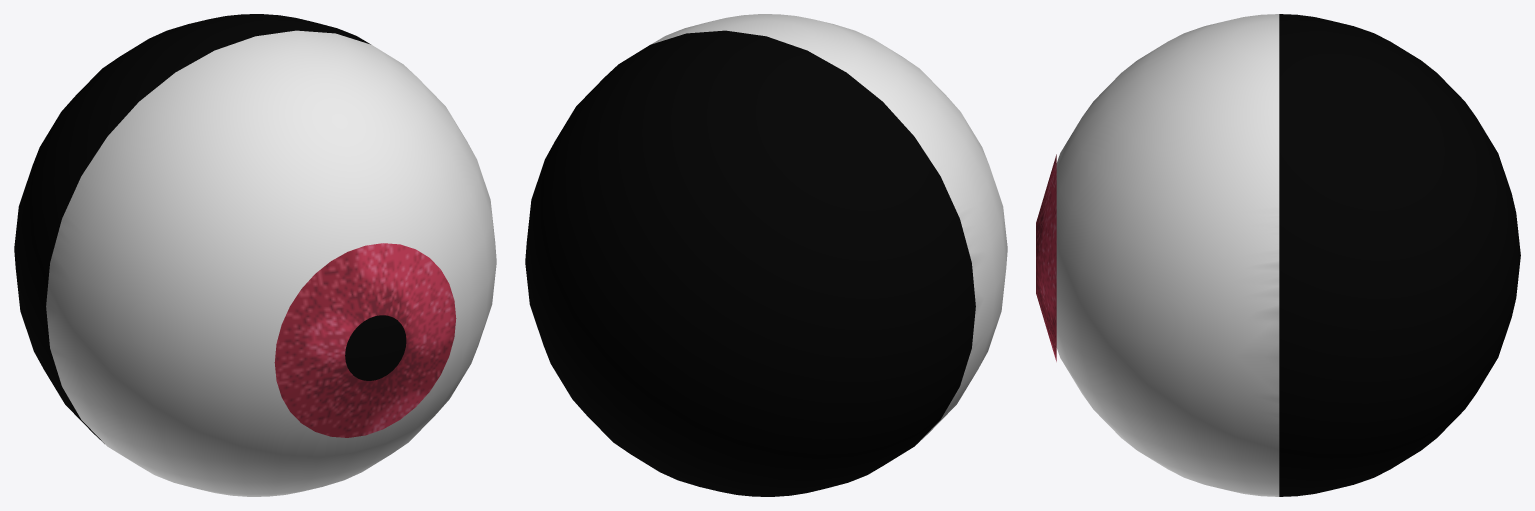
The model's file is eyev5.fbx.
The picture shows the model from 3 angles, left to right: view 1: azimuth 30°, elevation 25°; view 2: azimuth 150°, elevation 25°; view 3: azimuth 270°, elevation 25°; orthographic projection.
Parts seen in each view (by area): view 1: L Eye; view 2: L Eye; view 3: L Eye.
Boxes of the visible parts, bbox=[...] form: L Eye: bbox=[14, 14, 496, 496]; L Eye: bbox=[525, 14, 1007, 496]; L Eye: bbox=[1036, 14, 1520, 496].
Size of the model in its own units: 34.75 by 34.75 by 34.85.
2 materials, 2 textured.
